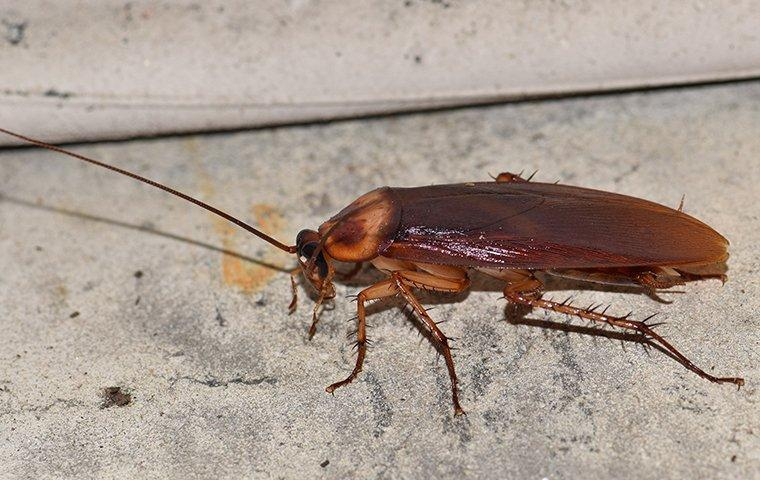cockroach: (274, 168, 738, 336)
